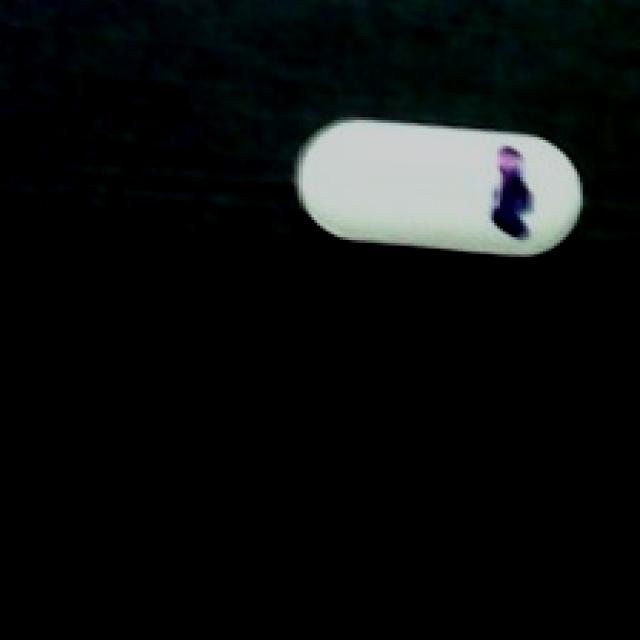defected: (289, 111, 591, 271)
